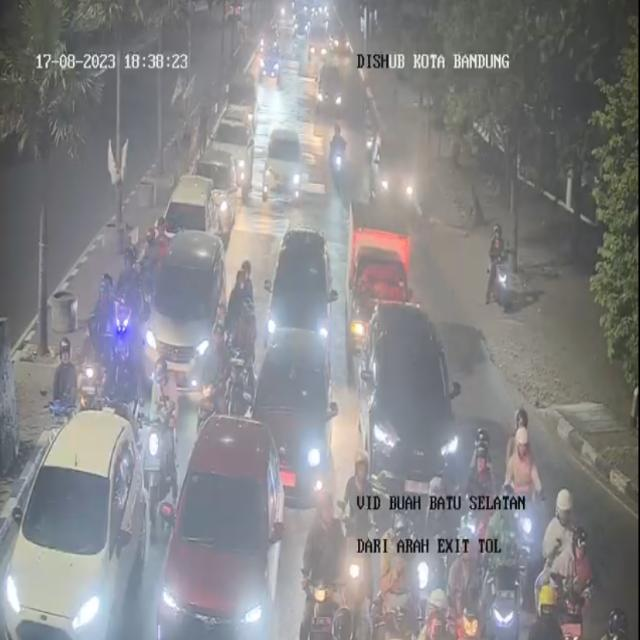cars: (0, 411, 149, 639), (164, 413, 280, 639), (364, 302, 464, 518), (253, 320, 339, 528), (146, 226, 225, 400), (344, 195, 414, 365), (262, 219, 334, 362), (165, 170, 225, 254), (365, 136, 419, 223), (194, 145, 237, 234), (263, 119, 302, 209), (216, 108, 254, 178), (316, 49, 350, 118), (227, 74, 263, 126), (307, 17, 331, 60)
motorcycle: (300, 483, 354, 640), (536, 479, 586, 637), (375, 515, 423, 640), (508, 414, 544, 580), (482, 483, 518, 638), (418, 470, 451, 620), (463, 422, 496, 571), (142, 366, 175, 492), (229, 258, 260, 379), (46, 336, 76, 455), (486, 221, 518, 313), (303, 590, 360, 640), (113, 253, 137, 371), (525, 572, 566, 640), (78, 320, 110, 404), (92, 270, 117, 373), (226, 347, 256, 415), (330, 110, 353, 180), (599, 603, 630, 640), (265, 39, 283, 91)
